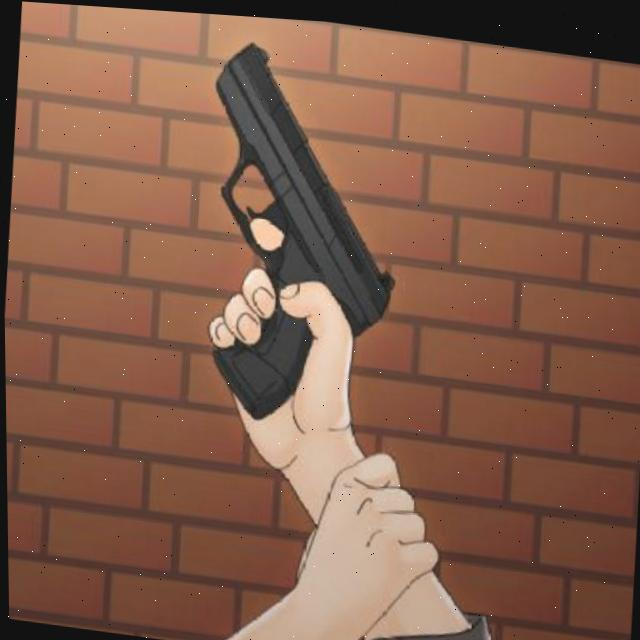gun: (179, 32, 417, 444)
